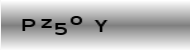5: (53, 22, 68, 36)
P: (21, 18, 36, 33)
Y: (94, 19, 109, 33)
o: (69, 15, 84, 26)
z: (39, 18, 53, 29)
